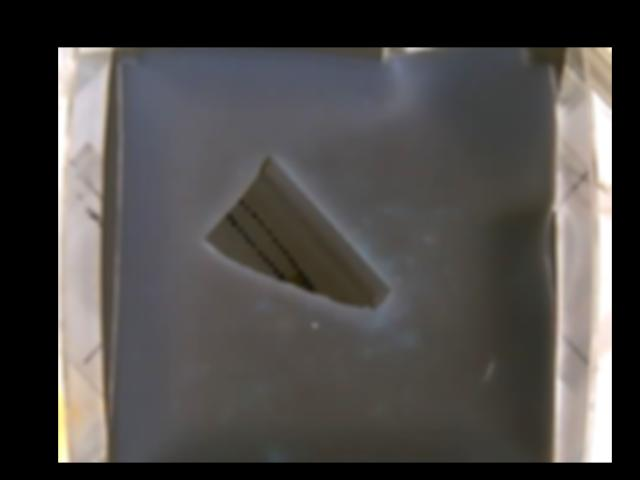China: (204, 154, 390, 313)
